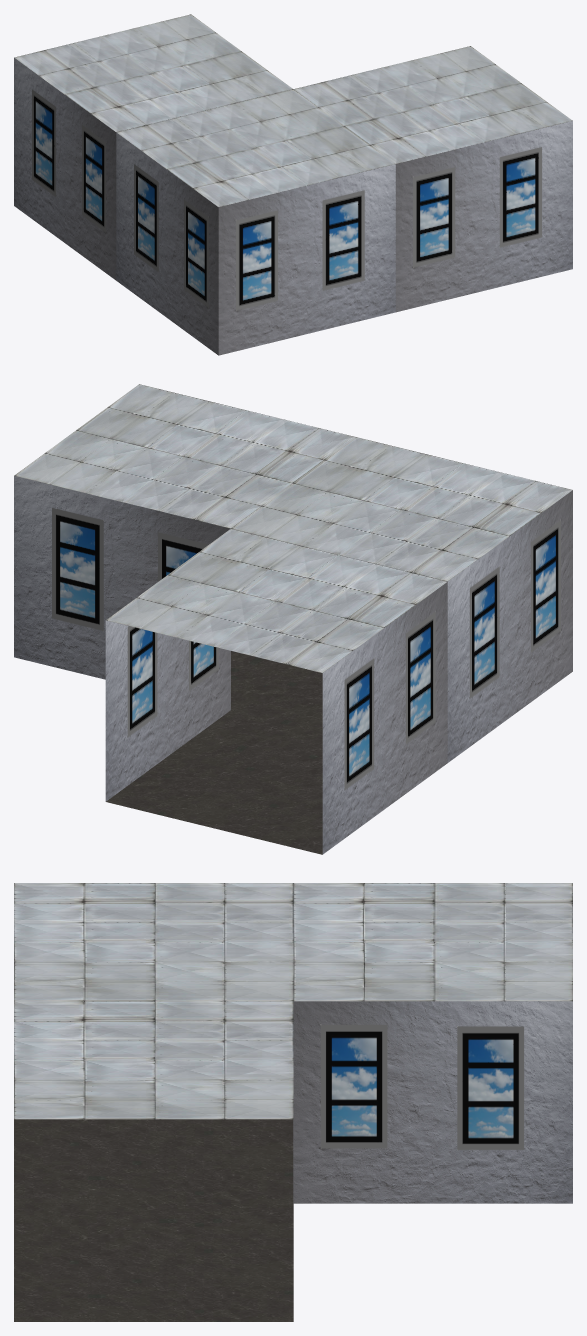
Rendered from corner.obj.
The picture shows the model from 3 angles, top to bottom: view 1: azimuth 30°, elevation 25°; view 2: azimuth 150°, elevation 25°; view 3: azimuth 270°, elevation 25°; orthographic projection. The views are drawn at different scales.
Visible parts, largest first — view 1: Wall1.004_Plane.021, Wall2.000_Plane.026, Roof_Floor.000_Plane.000, Roof2_Floor.000_Plane.001, Roof1_Floor.000_Plane.002, Wall1.001_Plane.027, Wall1.000_Plane.025; view 2: Roof2_Floor.000_Plane.001, Roof_Floor.000_Plane.000, Roof1_Floor.000_Plane.002, Wall2.001_Plane.003, Wall1.001_Plane.027, Wall1.000_Plane.025, Floor.009_Plane.019, Wall1.002_Plane.028, Floor.003_Plane.007, Floor.000_Plane.029; view 3: Wall1.002_Plane.028, Roof_Floor.000_Plane.000, Roof2_Floor.000_Plane.001, Floor.000_Plane.029, Roof1_Floor.000_Plane.002, Floor.003_Plane.007.
Part boxes in pixels (x1,y1,x2,y2): Wall1.004_Plane.021: (218, 164, 395, 355); Wall2.000_Plane.026: (395, 121, 572, 312); Roof_Floor.000_Plane.000: (294, 46, 572, 163); Roof2_Floor.000_Plane.001: (116, 89, 395, 207); Roof1_Floor.000_Plane.002: (14, 14, 292, 132); Wall1.001_Plane.027: (14, 58, 116, 280); Wall1.000_Plane.025: (116, 132, 218, 355); Roof2_Floor.000_Plane.001: (231, 437, 572, 581); Roof_Floor.000_Plane.000: (14, 384, 355, 528); Roof1_Floor.000_Plane.002: (106, 529, 447, 673); Wall2.001_Plane.003: (14, 476, 230, 679); Wall1.001_Plane.027: (322, 582, 447, 854); Wall1.000_Plane.025: (447, 490, 572, 762); Floor.009_Plane.019: (106, 710, 322, 854); Wall1.002_Plane.028: (105, 620, 230, 801); Floor.003_Plane.007: (231, 666, 322, 732); Floor.000_Plane.029: (231, 651, 291, 709); Wall1.002_Plane.028: (293, 1001, 572, 1203); Roof_Floor.000_Plane.000: (14, 1001, 293, 1119); Roof2_Floor.000_Plane.001: (14, 883, 293, 1001); Floor.000_Plane.029: (14, 1203, 293, 1321); Roof1_Floor.000_Plane.002: (293, 883, 572, 1001); Floor.003_Plane.007: (14, 1119, 293, 1203).
Bounding box in the file's own units: 4 × 1.6 × 4.
